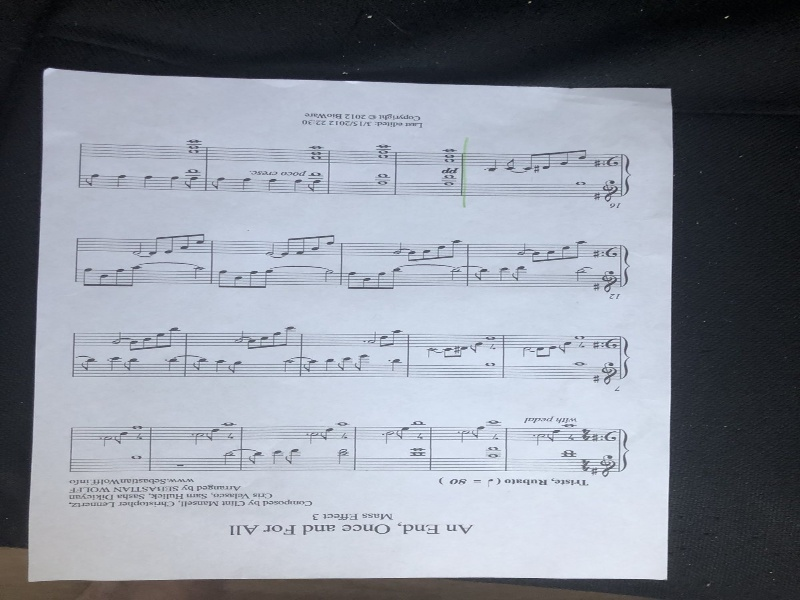document: (25, 68, 676, 585)
